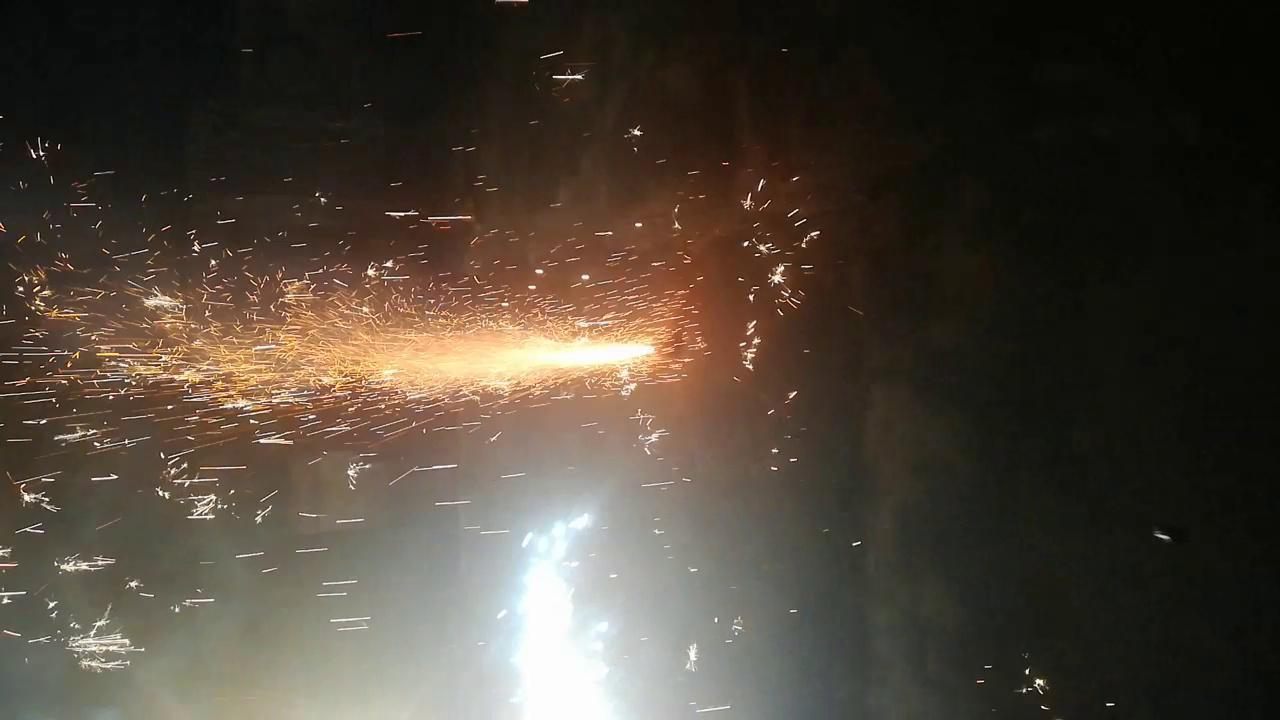fire: (300, 307, 671, 393)
